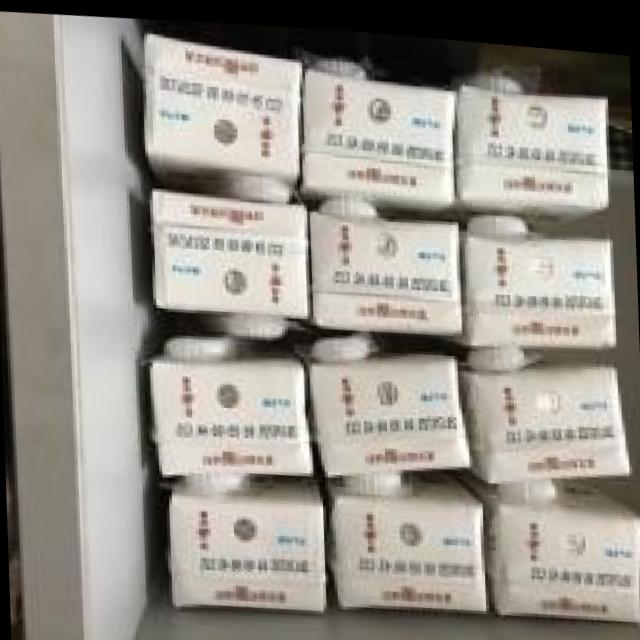box: (448, 456, 640, 609), (322, 461, 488, 605), (458, 77, 609, 227), (142, 30, 301, 170), (168, 466, 328, 605), (300, 66, 461, 202), (458, 353, 632, 475), (305, 344, 469, 471), (147, 355, 319, 472), (151, 189, 308, 312), (305, 206, 465, 324), (459, 225, 614, 335)
